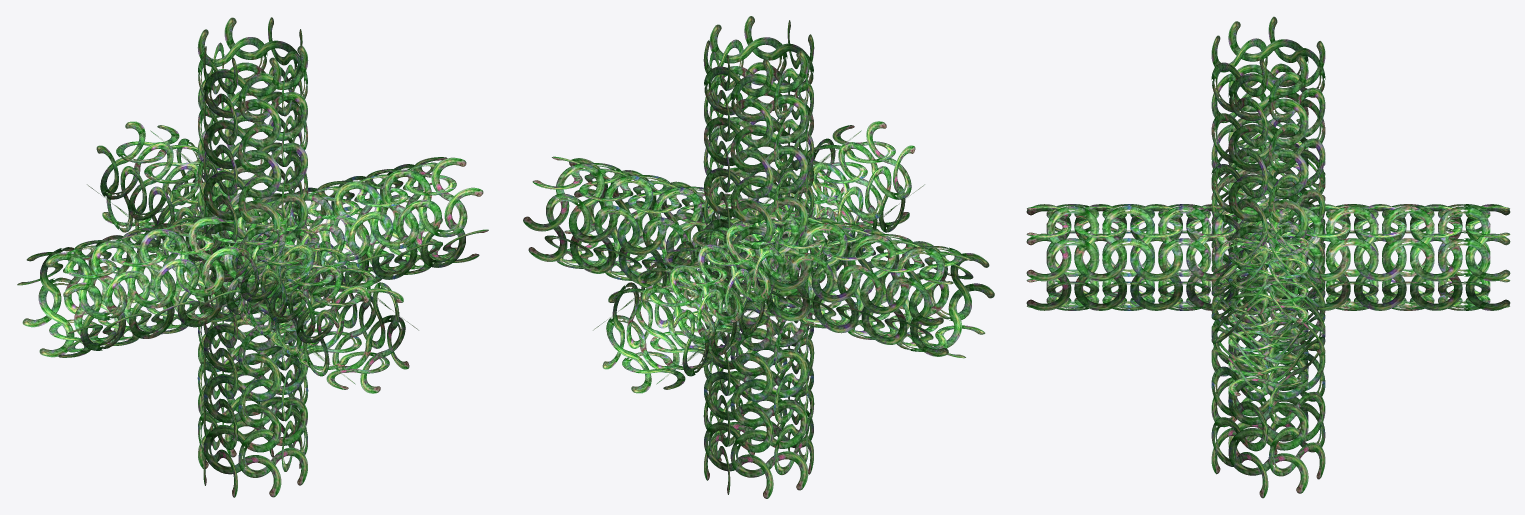
The model's file is StarTetrahemihexacron12.gltf.
3 renders of one model, left to right at view 1: azimuth 30°, elevation 25°; view 2: azimuth 150°, elevation 25°; view 3: azimuth 270°, elevation 25°, orthographic.
Parts seen in each view (by area): view 1: StarTetrahemihexacron; view 2: StarTetrahemihexacron; view 3: StarTetrahemihexacron.
Part boxes in pixels (bbox=[...]): StarTetrahemihexacron: bbox=[17, 17, 488, 497]; StarTetrahemihexacron: bbox=[523, 16, 994, 498]; StarTetrahemihexacron: bbox=[1026, 16, 1510, 498].
Bounding box in the file's own units: 6 × 6 × 6.
Materials: 1 (1 with a texture image).
